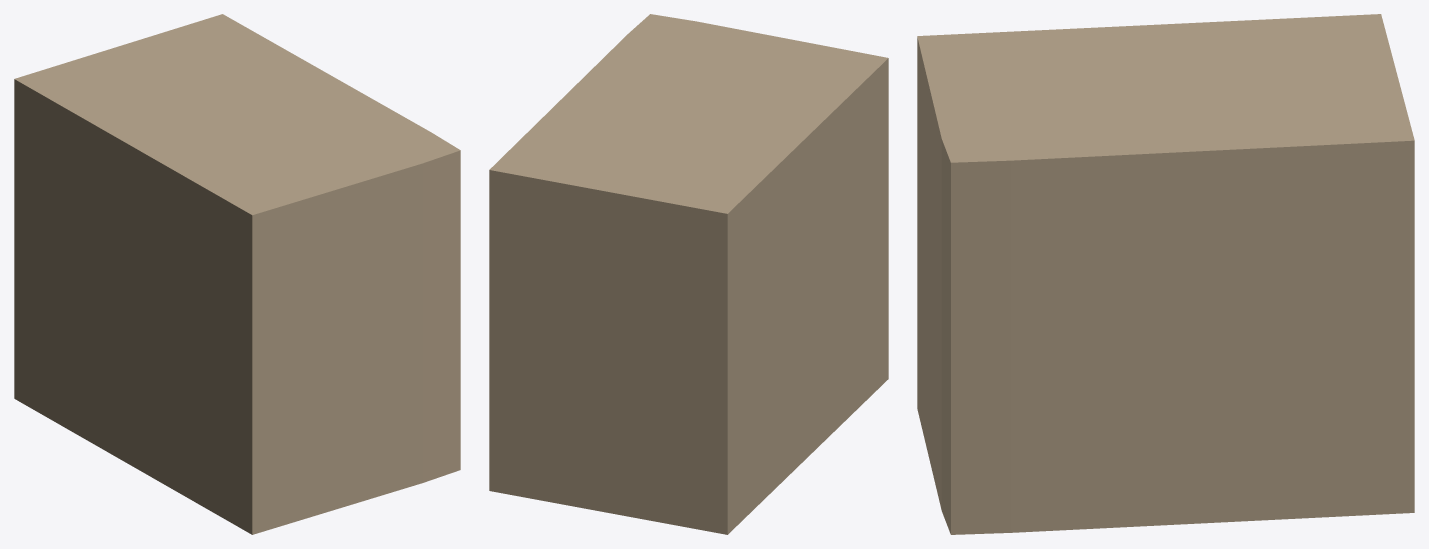
File: bld_393483724.dae
3 renders of one model, left to right at view 1: azimuth 30°, elevation 25°; view 2: azimuth 150°, elevation 25°; view 3: azimuth 270°, elevation 25°, orthographic. The views are drawn at different scales.
Visible parts, largest first — view 1: bld_393483724; view 2: bld_393483724; view 3: bld_393483724.
Boxes of the visible parts, x1,y1,x2,y2 form: bld_393483724: (14,14,460,534); bld_393483724: (489,14,888,534); bld_393483724: (917,14,1414,534).
Bounding box in the file's own units: 6.86 × 9.69 × 8.
